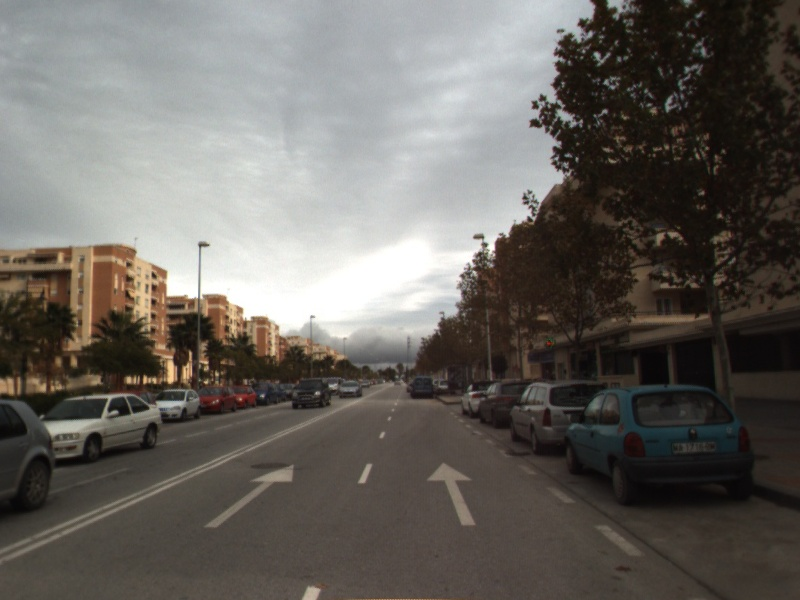STRAIGHT: (201, 463, 295, 530), (425, 460, 478, 527)
